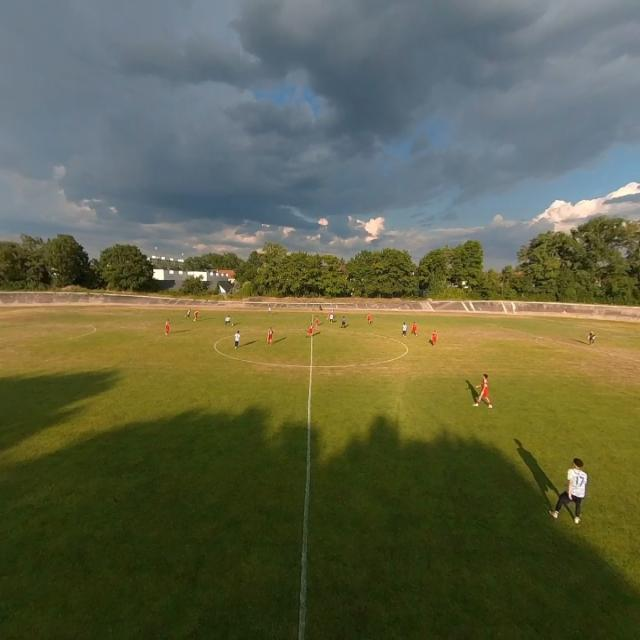ball: (232, 322, 234, 327)
